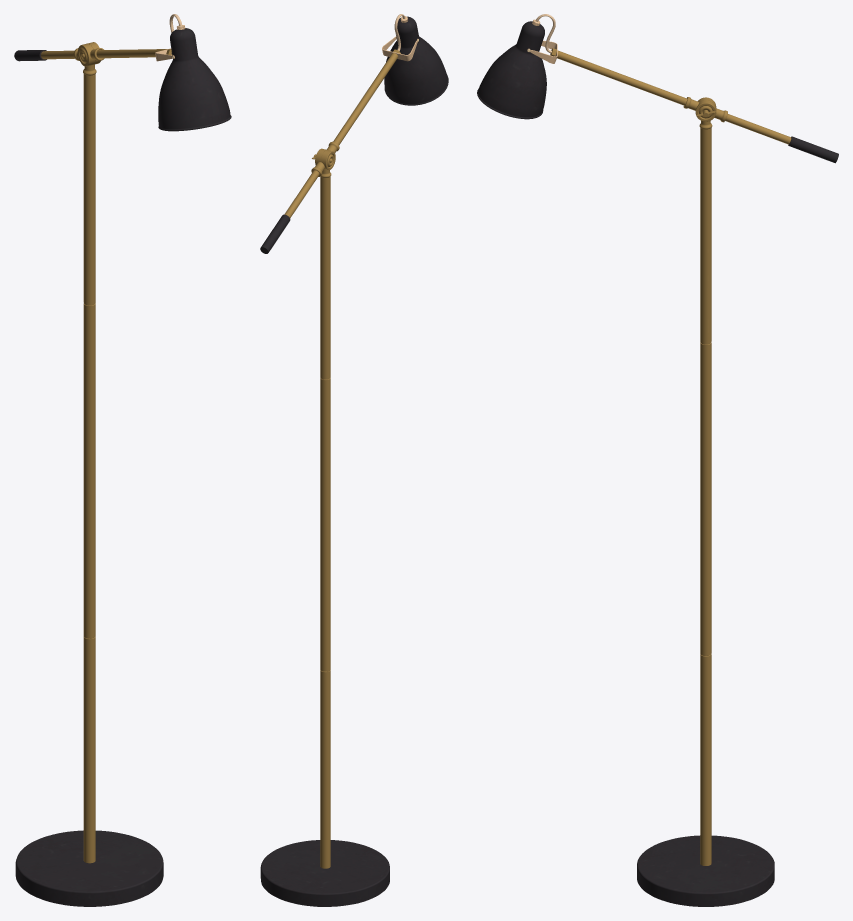
File: floor-lamp.glb
3 views of the same model, side by side, from view 1: azimuth 30°, elevation 25°; view 2: azimuth 150°, elevation 25°; view 3: azimuth 270°, elevation 25° (orthographic). The views are drawn at different scales.
Parts seen in each view (by area): view 1: RootNode; view 2: RootNode; view 3: RootNode.
Boxes of the visible parts, x1,y1,x2,y2 form: RootNode: (14, 14, 231, 906); RootNode: (260, 14, 448, 906); RootNode: (477, 14, 838, 906).
Bounding box in the file's own units: 0.2352 × 1.63 × 0.6179.
1 material, 1 textured.
